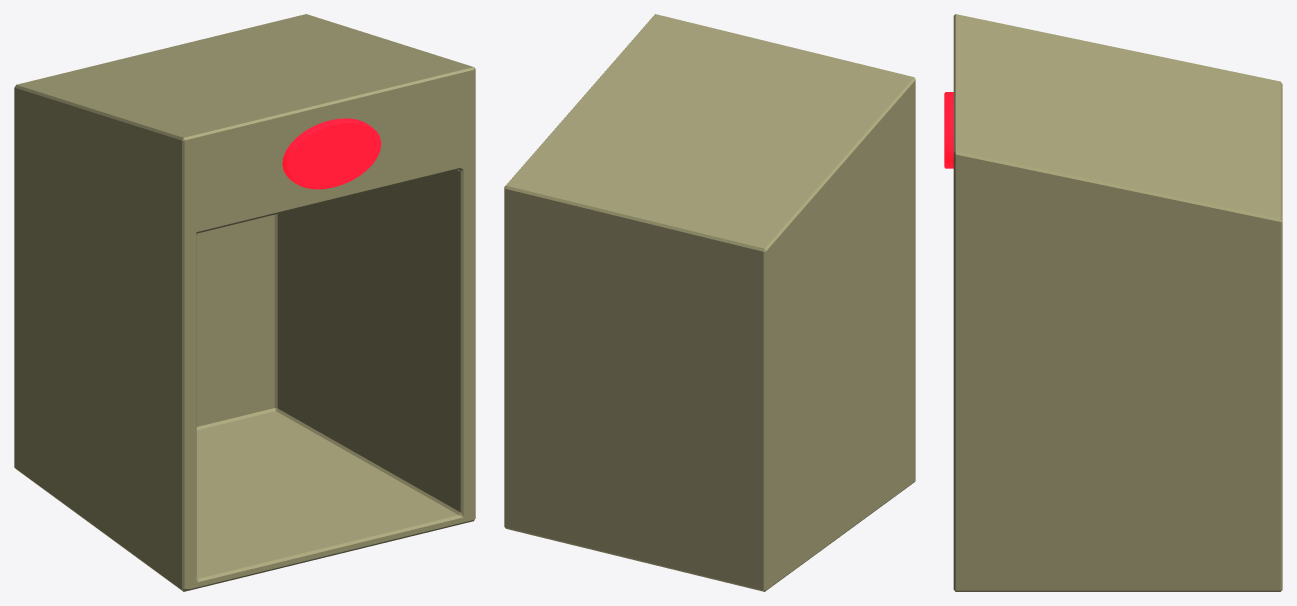
File: Entry.fbx
3 views of the same model, side by side, from view 1: azimuth 30°, elevation 25°; view 2: azimuth 150°, elevation 25°; view 3: azimuth 270°, elevation 25° (orthographic). The views are drawn at different scales.
Visible parts, largest first — view 1: Exit; view 2: Exit; view 3: Exit.
Part boxes in pixels (x1,y1,x2,y2): Exit: (14, 14, 475, 591); Exit: (504, 14, 915, 591); Exit: (944, 14, 1282, 591).
Size of the model in its own units: 320 by 473 by 329.
